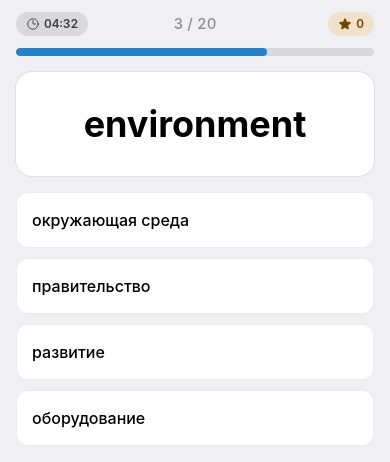
Test: ExamView › marks a right answer with a check
Step 1. Click the button with test id "option-2" → {"x": 68, "y": 352}, box [16,324,374,380]
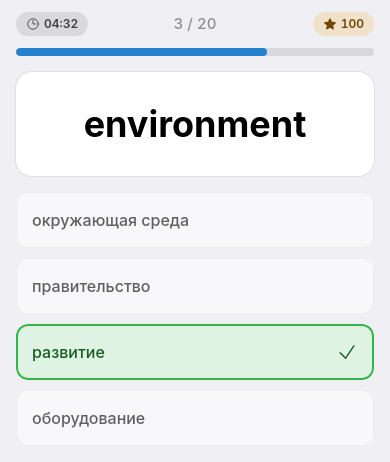
Check: the element with test id "score" reads "100", box [341,16,364,31]
